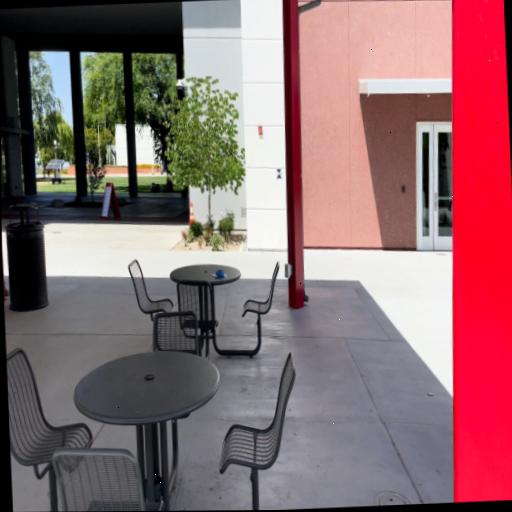target9: (276, 167, 282, 179)
